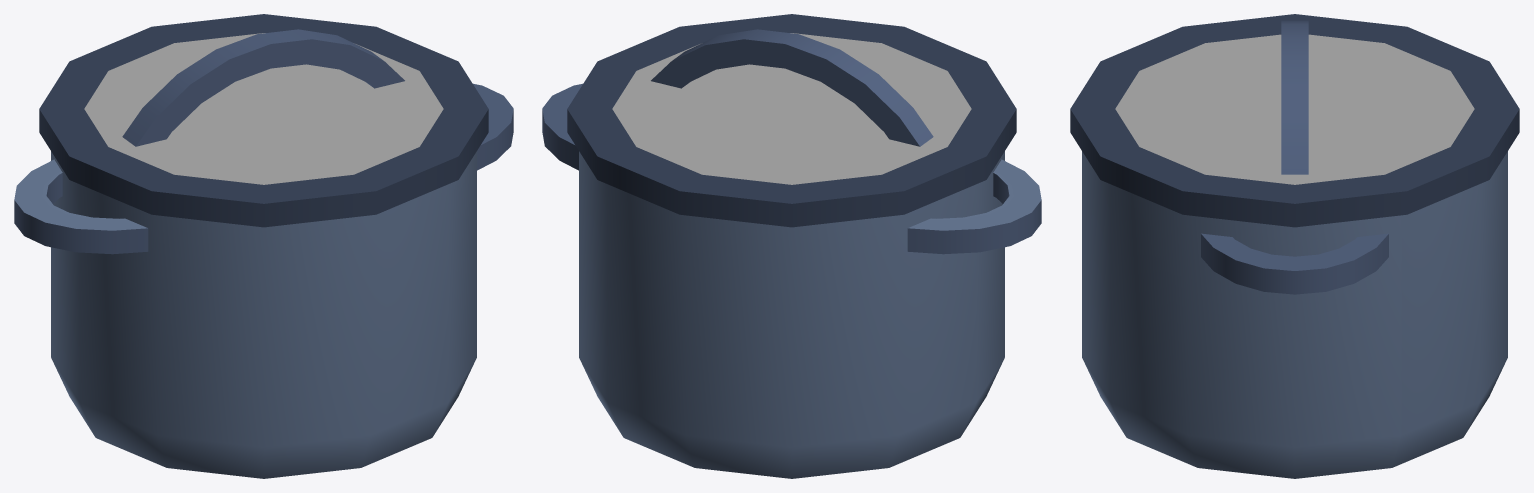
The model's file is _ig_Pot.fbx.
3 views of the same model, side by side, from view 1: azimuth 30°, elevation 25°; view 2: azimuth 150°, elevation 25°; view 3: azimuth 270°, elevation 25° (orthographic).
Parts seen in each view (by area): view 1: Big_Pot, Big_Pot_Lid; view 2: Big_Pot, Big_Pot_Lid; view 3: Big_Pot, Big_Pot_Lid.
Boxes of the visible parts, box(x1,y1,x2,y2) form: Big_Pot: box(14, 83, 513, 478); Big_Pot_Lid: box(39, 14, 488, 227); Big_Pot: box(542, 83, 1041, 478); Big_Pot_Lid: box(567, 14, 1016, 227); Big_Pot: box(1082, 151, 1507, 478); Big_Pot_Lid: box(1070, 14, 1519, 227).
Size of the model in its own units: 0.026 by 0.0194 by 0.0211.
